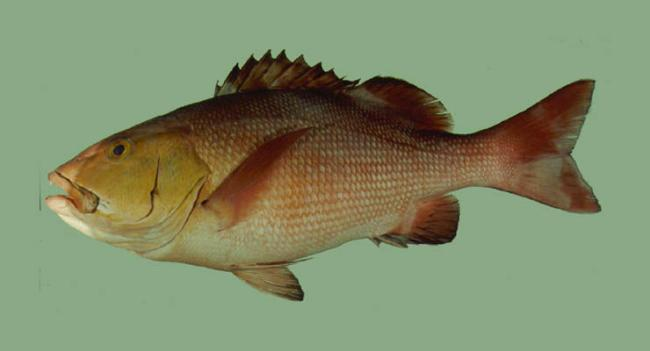fish: (43, 49, 603, 303)
